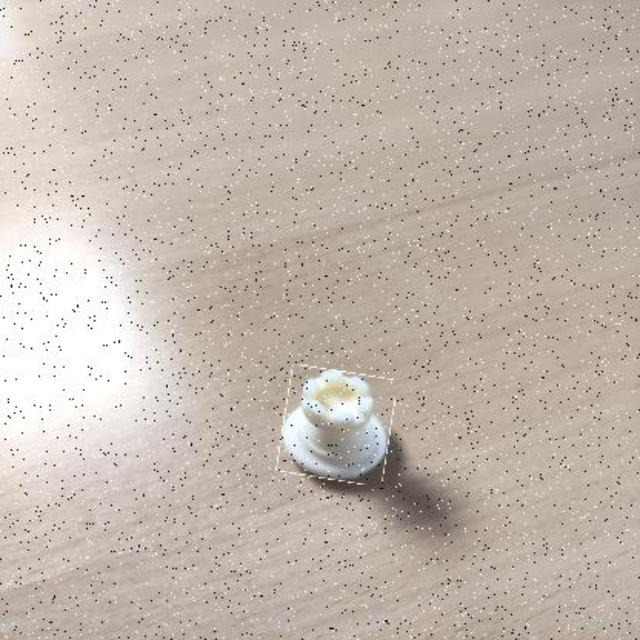white-rook: (279, 369, 392, 482)
